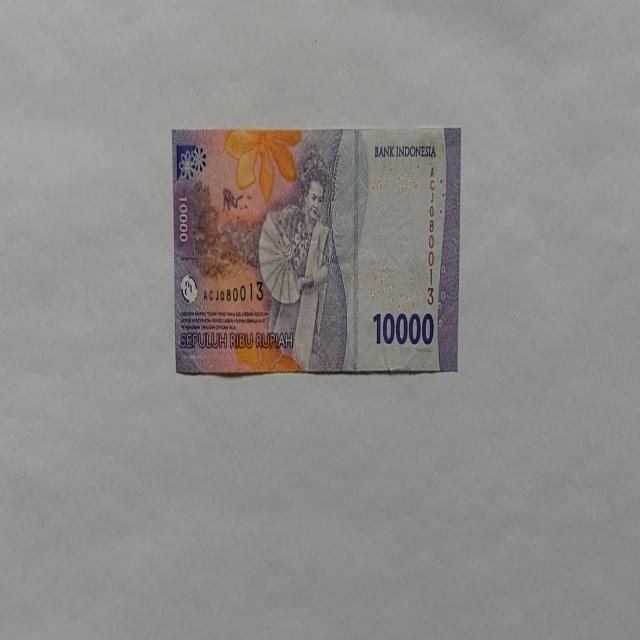sepuluh ribu rupiah: (171, 125, 461, 376)
